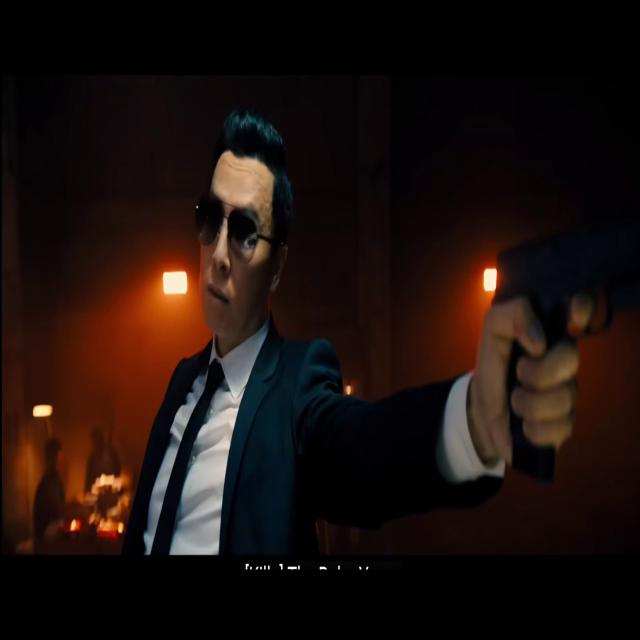weapons: (482, 194, 640, 495)
